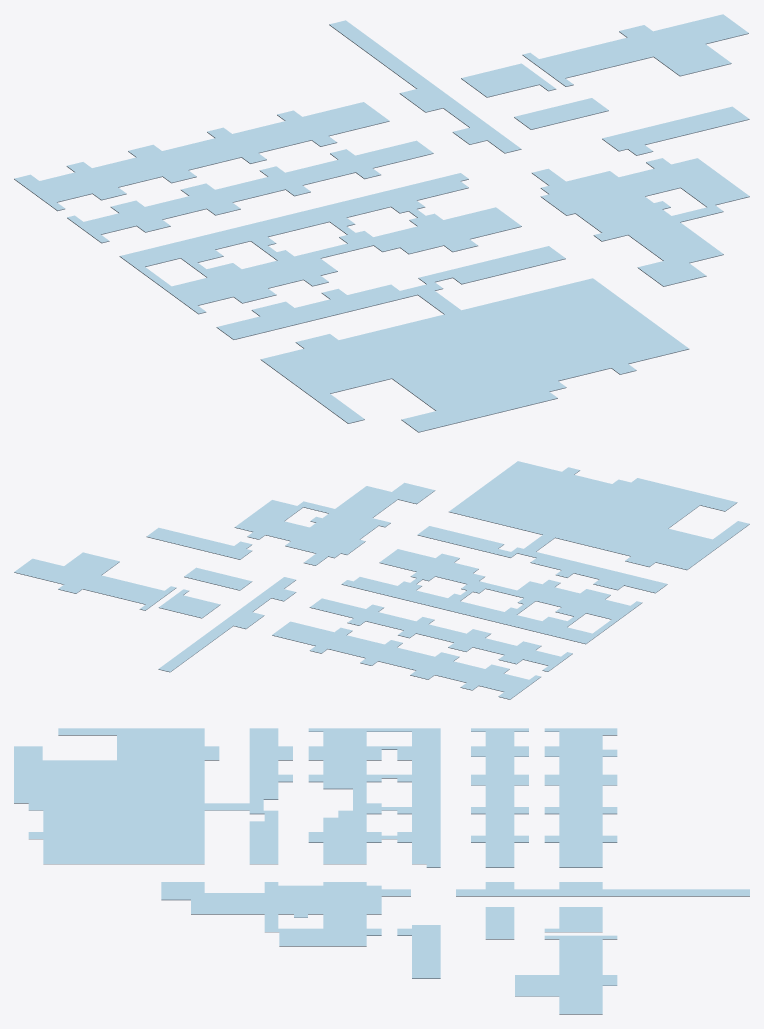
The model's file is SM_MPR4_SolarBank_02_0_LOD2.fbx.
3 views of the same model, one above another, from view 1: azimuth 30°, elevation 25°; view 2: azimuth 150°, elevation 25°; view 3: azimuth 270°, elevation 25° (orthographic). The views are drawn at different scales.
Visible parts, largest first — view 1: SM_MPR4_SolarBank_02_0_LOD2; view 2: SM_MPR4_SolarBank_02_0_LOD2; view 3: SM_MPR4_SolarBank_02_0_LOD2.
Boxes of the visible parts, x1,y1,x2,y2 form: SM_MPR4_SolarBank_02_0_LOD2: (14,14,749,432); SM_MPR4_SolarBank_02_0_LOD2: (14,461,749,699); SM_MPR4_SolarBank_02_0_LOD2: (14,728,749,1014).
Size of the model in its own units: 8949 by 9738 by 8.6.
